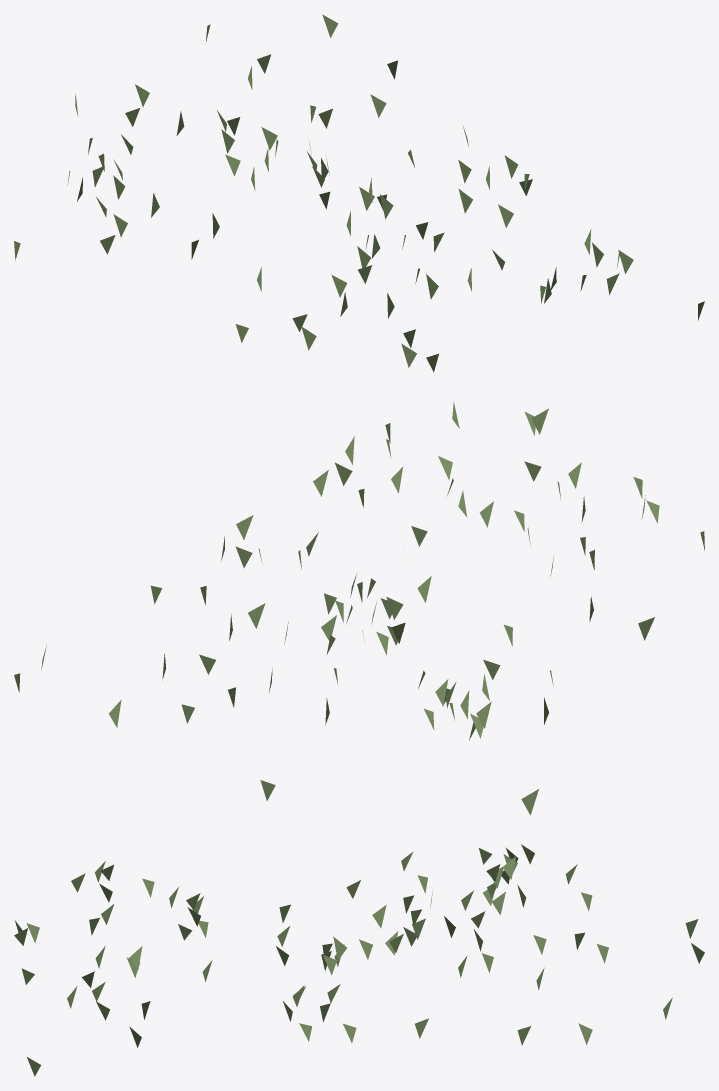
File: xiyuan-vegetation-32-far.glb
The picture shows the model from 3 angles, top to bottom: view 1: azimuth 30°, elevation 25°; view 2: azimuth 150°, elevation 25°; view 3: azimuth 270°, elevation 25°; orthographic projection. The views are drawn at different scales.
Visible parts, largest first — view 1: shrubs.002; view 2: shrubs.002; view 3: shrubs.002.
Part boxes in pixels (x1,y1,x2,y2): shrubs.002: (14, 14, 704, 372); shrubs.002: (14, 401, 704, 815); shrubs.002: (14, 844, 704, 1076).
Bounding box in the file's own units: 4.64 × 1.26 × 6.87.
